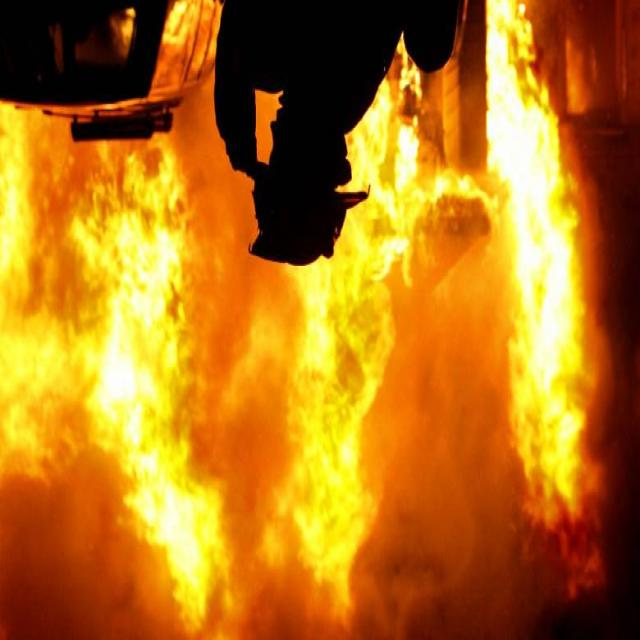fire: (0, 106, 216, 640), (251, 104, 446, 596), (469, 5, 628, 538)
person: (203, 0, 401, 275), (402, 0, 471, 73)
